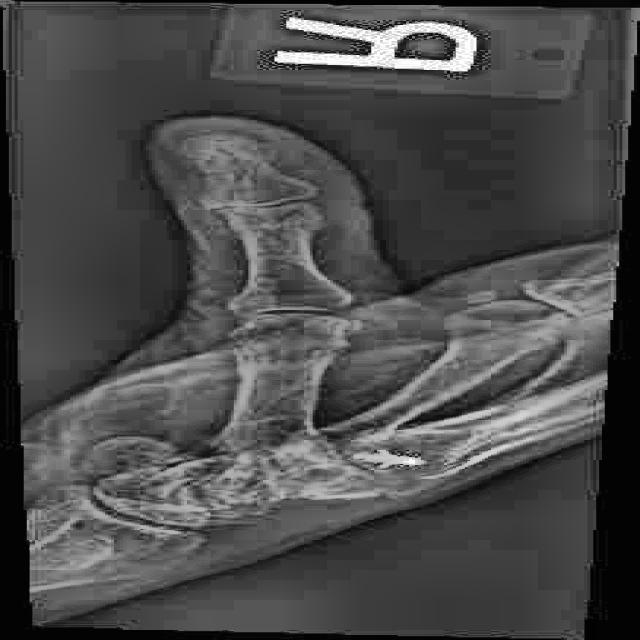fingers positive: (212, 199, 318, 229)
